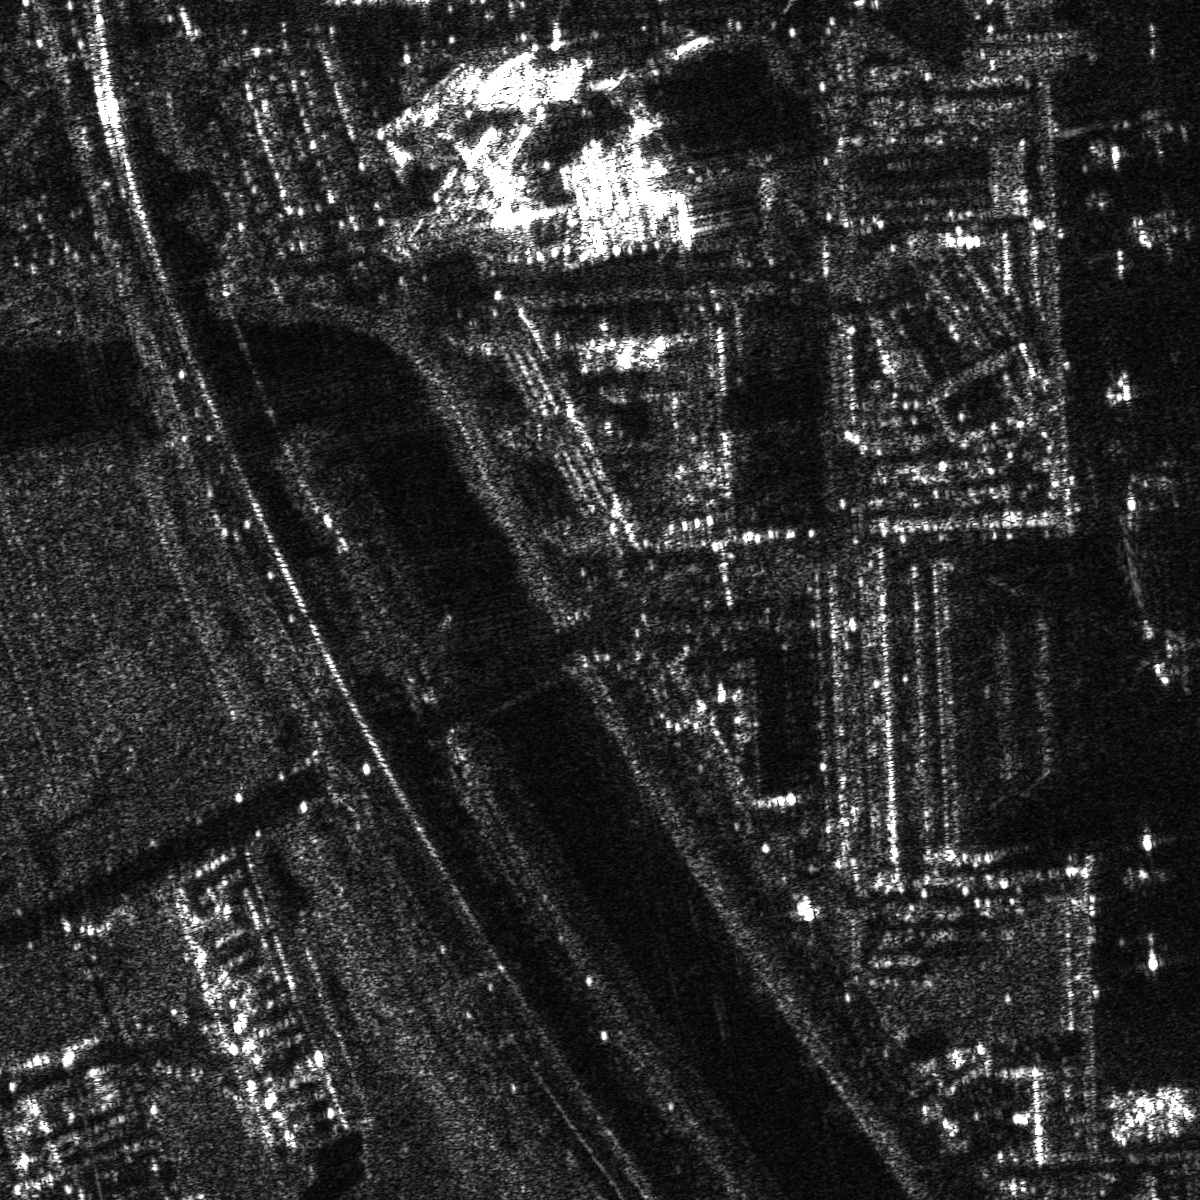A220: (1126, 95, 1199, 164), (1121, 201, 1199, 265), (1124, 446, 1198, 513), (1146, 621, 1199, 695)
